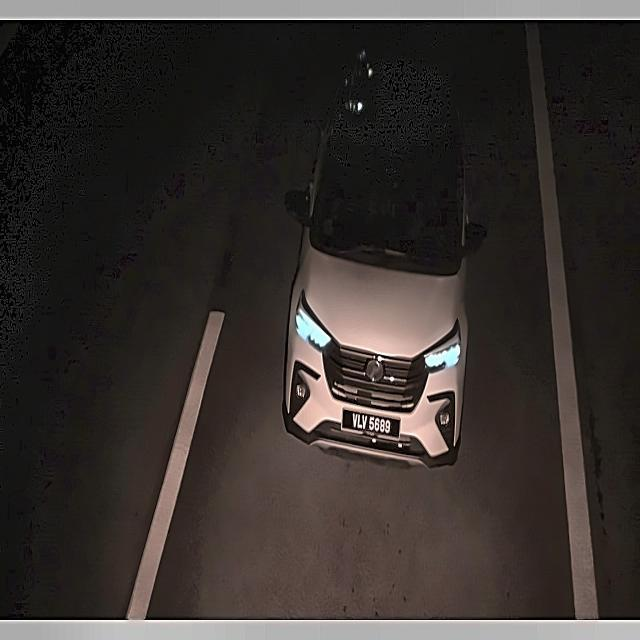car: (338, 400, 405, 447)
